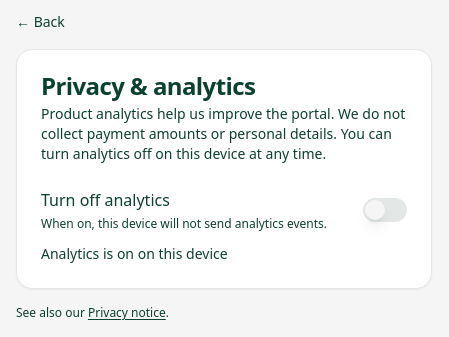
Test case: Portal footer Privacy & analytics › opts out when Turn off analytics is switched on
The width and height of the screenshot is (449, 337).
Expected: the message with test id "analytics-status" reads "Analytics is on on this device", [41,244,228,263]
Click the switch named "turn off analytics": (385, 210) [363,198,407,222]
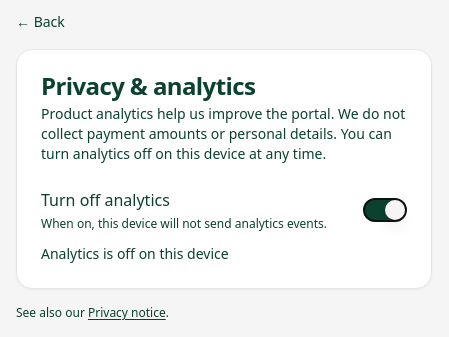
Expected: the message with test id "analytics-status" reads "Analytics is off on this device", [41,244,229,263]
